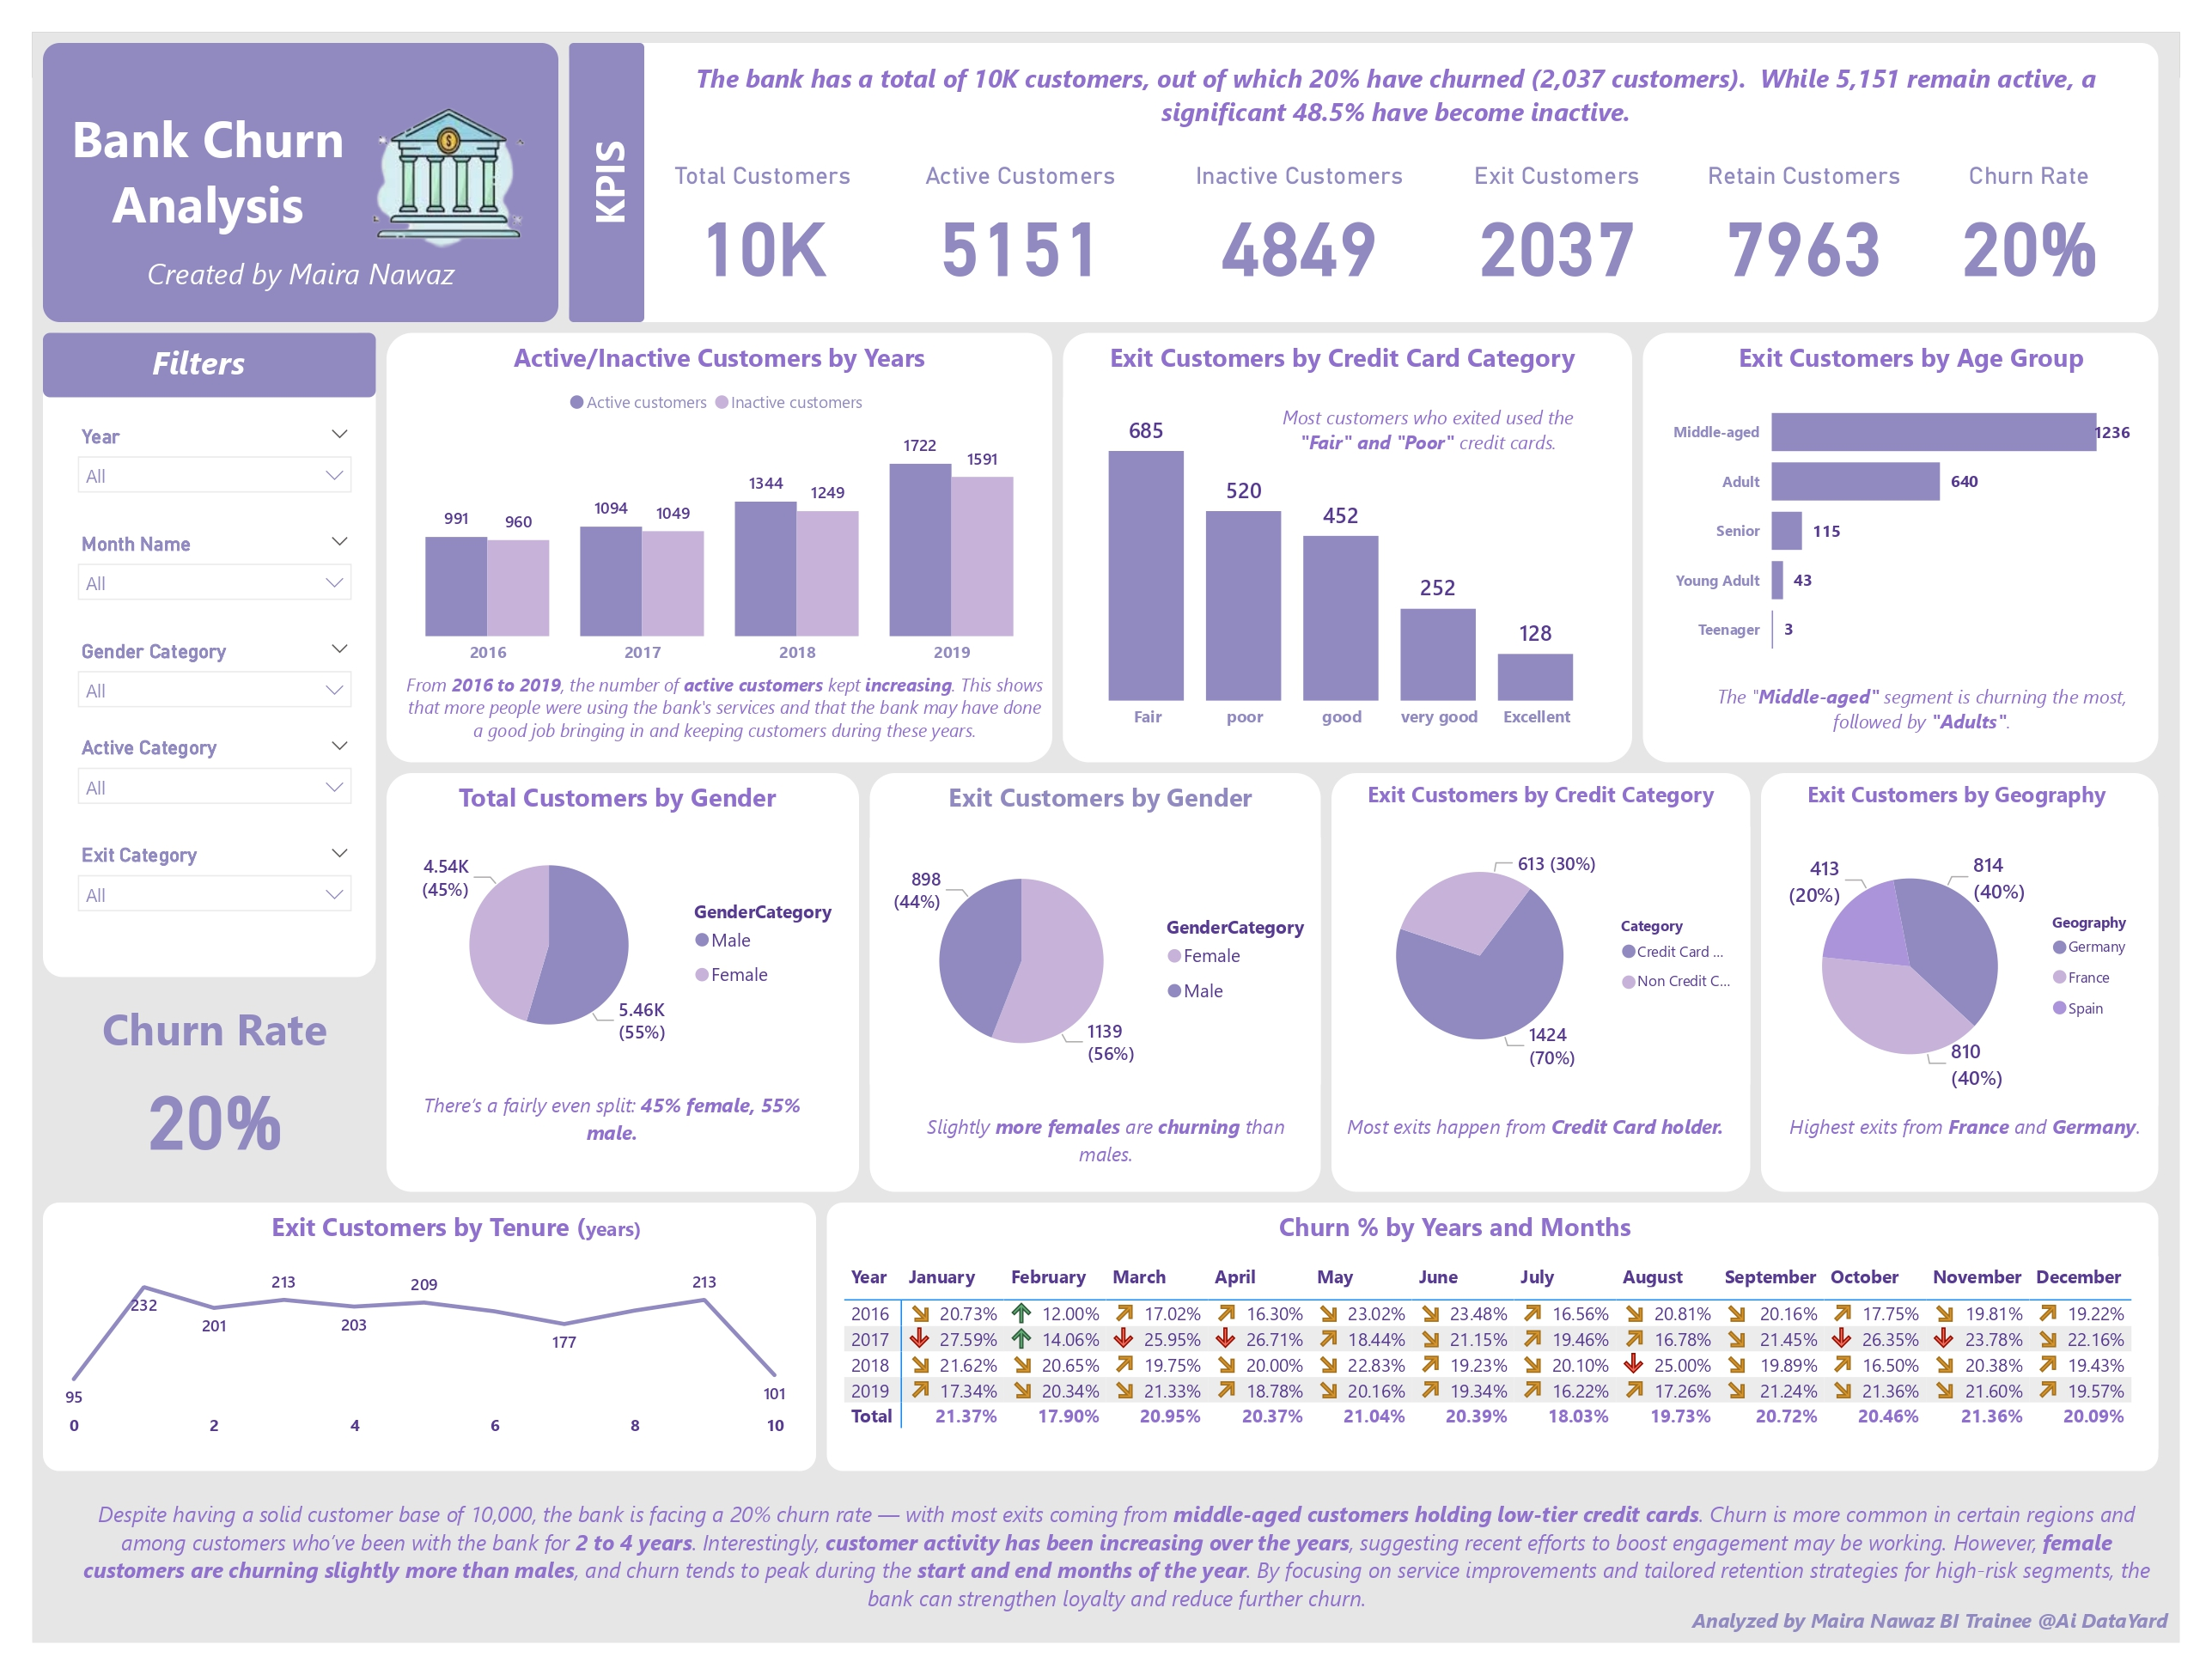

What the dashboard file says about the page in this screenshot:
{"tool":"powerbi","page":{"name":"Bank Churn Analysis","canvas":[1600,1200],"ordinal":0},"visuals":[{"type":"shape","box":[-16,-96,1616,1296],"z":0},{"type":"shape","box":[8,8,384,208],"z":1000},{"type":"textbox","box":[1080,1248,408,24],"z":2000},{"type":"shape","box":[400,8,1184,208],"z":3000},{"type":"shape","box":[8,224,248,480],"z":4000},{"type":"shape","box":[400,8,56,208],"z":5000},{"type":"shape","box":[8,224,248,48],"z":6000},{"type":"shape","box":[8,872,576,200],"z":7000},{"type":"shape","box":[264,224,496,320],"z":8000},{"type":"shape","box":[768,224,424,320],"z":9000},{"type":"shape","box":[1200,224,384,320],"z":10000},{"type":"shape","box":[592,872,992,200],"z":11000},{"type":"shape","box":[624,552,336,312],"z":12000},{"type":"shape","box":[968,552,312,312],"z":13000},{"type":"shape","box":[1288,552,296,312],"z":14000},{"type":"shape","box":[264,552,352,312],"z":15000},{"type":"textbox","box":[1168,1168,432,32],"z":16000},{"type":"textbox","box":[16,48,240,112],"z":17000},{"type":"textbox","box":[8,160,384,48],"z":18000},{"type":"textbox","box":[0,224,248,48],"z":19000},{"type":"card","title":"Total Customers","fields":{"Values":["CountNonNull(dim_customer_info.CustomerId)"]},"box":[464,96,160,96],"z":20000},{"type":"card","title":"Active Customers","fields":{"Values":["metrics.active customers"]},"box":[624,96,224,96],"z":21000},{"type":"card","title":"Exit Customers","fields":{"Values":["metrics.Exit customers"]},"box":[1056,96,160,96],"z":22000},{"type":"card","title":"Retain Customers","fields":{"Values":["metrics.Retain customers"]},"box":[1232,96,176,96],"z":23000},{"type":"card","title":"Inactive Customers","fields":{"Values":["metrics.Inactive customers"]},"box":[848,96,192,96],"z":24000},{"type":"card","title":"Churn Rate","fields":{"Values":["metrics.Churn %"]},"box":[1408,96,160,96],"z":25000},{"type":"slicer","fields":{"Values":["dim_date.Year"]},"box":[24,288,224,72],"z":26000},{"type":"slicer","fields":{"Values":["dim_date.Month Name"]},"box":[24,368,224,80],"z":27000},{"type":"slicer","fields":{"Values":["dim_gender.GenderCategory"]},"box":[24,448,224,80],"z":28000},{"type":"slicer","fields":{"Values":["dim_active_customers.ActiveCategory"]},"box":[24,520,224,80],"z":29000},{"type":"slicer","fields":{"Values":["dim_exit_customer.ExitCategory"]},"box":[24,600,224,72],"z":30000},{"type":"clusteredColumnChart","fields":{"Category":["dim_date.Year"],"Y":["metrics.active customers","metrics.Inactive customers"]},"box":[288,256,448,224],"z":31000},{"type":"barChart","fields":{"Category":["fact_bank_churn.Age Group"],"Y":["metrics.Exit customers"]},"box":[1216,256,352,224],"z":32000},{"type":"columnChart","fields":{"Category":["fact_bank_churn.credit type"],"Y":["metrics.Exit customers"]},"box":[768,272,416,256],"z":33000},{"type":"pieChart","fields":{"Y":["metrics.Exit customers"],"Category":["dim_credit_card.Category"]},"box":[968,592,312,192],"z":34000},{"type":"pieChart","fields":{"Y":["metrics.Exit customers"],"Category":["dim_geography.GeographyCategory"]},"box":[1288,592,296,208],"z":35000},{"type":"pieChart","fields":{"Y":["metrics.Exit customers"],"Category":["dim_gender.GenderCategory"]},"box":[624,600,336,184],"z":36000},{"type":"lineChart","fields":{"Category":["fact_bank_churn.Tenure"],"Y":["metrics.Exit customers"]},"box":[16,912,552,144],"z":37000},{"type":"pivotTable","fields":{"Values":["metrics.Churn %"],"Rows":["dim_date.Year"],"Columns":["dim_date.Month Name"]},"box":[600,912,984,144],"z":38000},{"type":"textbox","box":[288,224,448,48],"z":39000},{"type":"textbox","box":[768,224,416,48],"z":40000},{"type":"textbox","box":[1200,224,400,48],"z":41000},{"type":"pieChart","fields":{"Category":["dim_gender.GenderCategory"],"Y":["CountNonNull(fact_bank_churn.CustomerId)"]},"box":[272,592,336,176],"z":42000},{"type":"textbox","box":[264,552,344,40],"z":43000},{"type":"textbox","box":[624,552,344,40],"z":44000},{"type":"textbox","box":[968,552,312,40],"z":45000},{"type":"textbox","box":[1280,552,312,40],"z":46000},{"type":"textbox","box":[88,872,456,40],"z":47000},{"type":"textbox","box":[832,872,456,48],"z":48000},{"type":"textbox","box":[480,16,1072,64],"z":49000},{"type":"textbox","box":[272,472,488,80],"z":50000},{"type":"image","box":[240,32,144,160],"z":51000},{"type":"textbox","box":[912,272,256,64],"z":52000},{"type":"textbox","box":[1248,480,320,64],"z":53000},{"type":"textbox","box":[272,784,320,64],"z":54000},{"type":"textbox","box":[656,800,288,64],"z":55000},{"type":"textbox","box":[960,800,320,64],"z":56000},{"type":"textbox","box":[1296,800,288,64],"z":57000},{"type":"textbox","box":[32,1088,1552,96],"z":58000},{"type":"card","title":"Churn Rate","fields":{"Values":["metrics.Churn %"]},"box":[32,720,208,128],"z":59000}]}

Visuals, with their boxes on the page's 1600x1200 design canvas (x1, y1, x2, y2). These are canvas units, not pixel positions in the 2212x1675 screenshot, which may show the page scaled, cropped or inside an application window:
shape: (-16, -96, 1600, 1200)
shape: (8, 8, 392, 216)
textbox: (1080, 1248, 1488, 1272)
shape: (400, 8, 1584, 216)
shape: (8, 224, 256, 704)
shape: (400, 8, 456, 216)
shape: (8, 224, 256, 272)
shape: (8, 872, 584, 1072)
shape: (264, 224, 760, 544)
shape: (768, 224, 1192, 544)
shape: (1200, 224, 1584, 544)
shape: (592, 872, 1584, 1072)
shape: (624, 552, 960, 864)
shape: (968, 552, 1280, 864)
shape: (1288, 552, 1584, 864)
shape: (264, 552, 616, 864)
textbox: (1168, 1168, 1600, 1200)
textbox: (16, 48, 256, 160)
textbox: (8, 160, 392, 208)
textbox: (0, 224, 248, 272)
"Total Customers" card: (464, 96, 624, 192)
"Active Customers" card: (624, 96, 848, 192)
"Exit Customers" card: (1056, 96, 1216, 192)
"Retain Customers" card: (1232, 96, 1408, 192)
"Inactive Customers" card: (848, 96, 1040, 192)
"Churn Rate" card: (1408, 96, 1568, 192)
slicer - dim_date.Year: (24, 288, 248, 360)
slicer - dim_date.Month Name: (24, 368, 248, 448)
slicer - dim_gender.GenderCategory: (24, 448, 248, 528)
slicer - dim_active_customers.ActiveCategory: (24, 520, 248, 600)
slicer - dim_exit_customer.ExitCategory: (24, 600, 248, 672)
clusteredColumnChart - dim_date.Year x metrics.active customers: (288, 256, 736, 480)
barChart - fact_bank_churn.Age Group x metrics.Exit customers: (1216, 256, 1568, 480)
columnChart - fact_bank_churn.credit type x metrics.Exit customers: (768, 272, 1184, 528)
pieChart - metrics.Exit customers x dim_credit_card.Category: (968, 592, 1280, 784)
pieChart - metrics.Exit customers x dim_geography.GeographyCategory: (1288, 592, 1584, 800)
pieChart - metrics.Exit customers x dim_gender.GenderCategory: (624, 600, 960, 784)
lineChart - fact_bank_churn.Tenure x metrics.Exit customers: (16, 912, 568, 1056)
pivotTable - metrics.Churn % x dim_date.Year: (600, 912, 1584, 1056)
textbox: (288, 224, 736, 272)
textbox: (768, 224, 1184, 272)
textbox: (1200, 224, 1600, 272)
pieChart - dim_gender.GenderCategory x CountNonNull(fact_bank_churn.CustomerId): (272, 592, 608, 768)
textbox: (264, 552, 608, 592)
textbox: (624, 552, 968, 592)
textbox: (968, 552, 1280, 592)
textbox: (1280, 552, 1592, 592)
textbox: (88, 872, 544, 912)
textbox: (832, 872, 1288, 920)
textbox: (480, 16, 1552, 80)
textbox: (272, 472, 760, 552)
image: (240, 32, 384, 192)
textbox: (912, 272, 1168, 336)
textbox: (1248, 480, 1568, 544)
textbox: (272, 784, 592, 848)
textbox: (656, 800, 944, 864)
textbox: (960, 800, 1280, 864)
textbox: (1296, 800, 1584, 864)
textbox: (32, 1088, 1584, 1184)
"Churn Rate" card: (32, 720, 240, 848)
